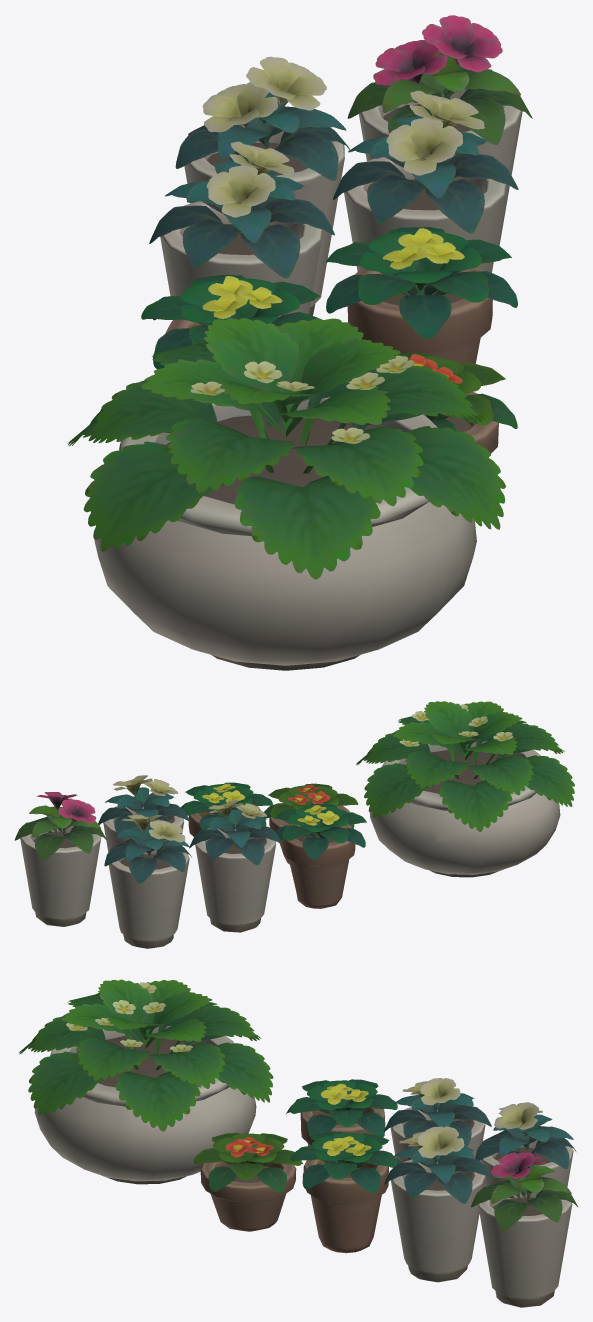
The model's file is potted.glb.
The picture shows the model from 3 angles, top to bottom: view 1: azimuth 30°, elevation 25°; view 2: azimuth 150°, elevation 25°; view 3: azimuth 270°, elevation 25°; orthographic projection. The views are drawn at different scales.
Bounding box in the file's own units: 18.53 × 6.38 × 20.65.
2 materials, 2 textured.
